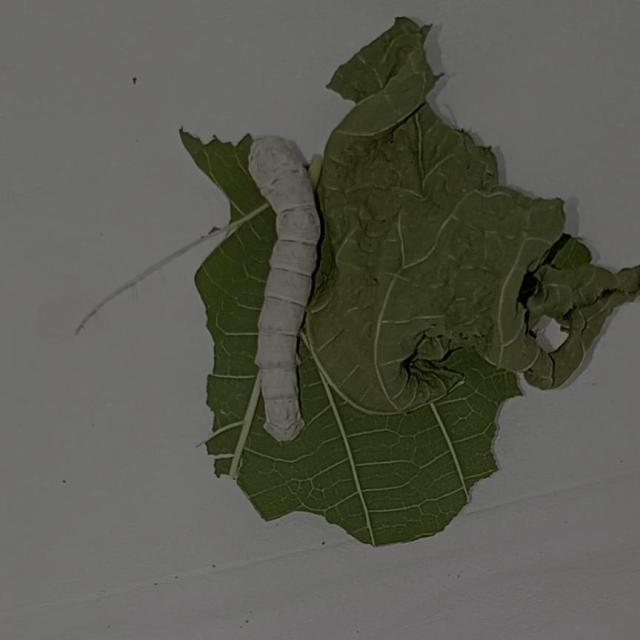Healthy: (205, 106, 380, 508)
